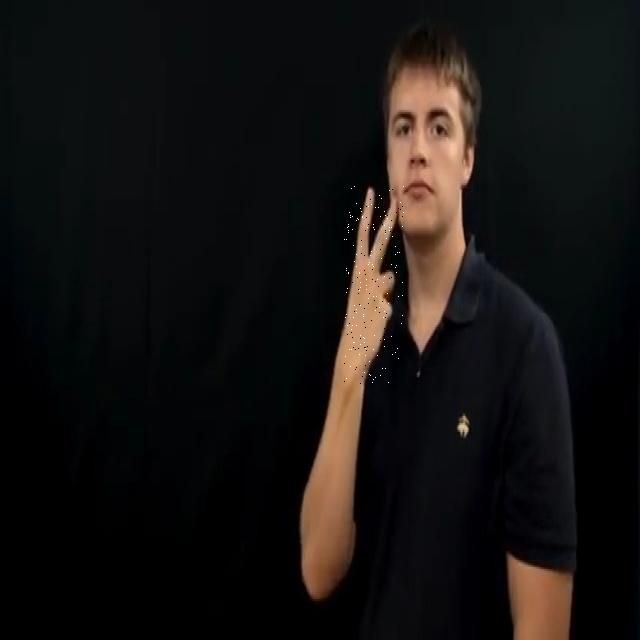vegetables: (344, 186, 404, 384)
